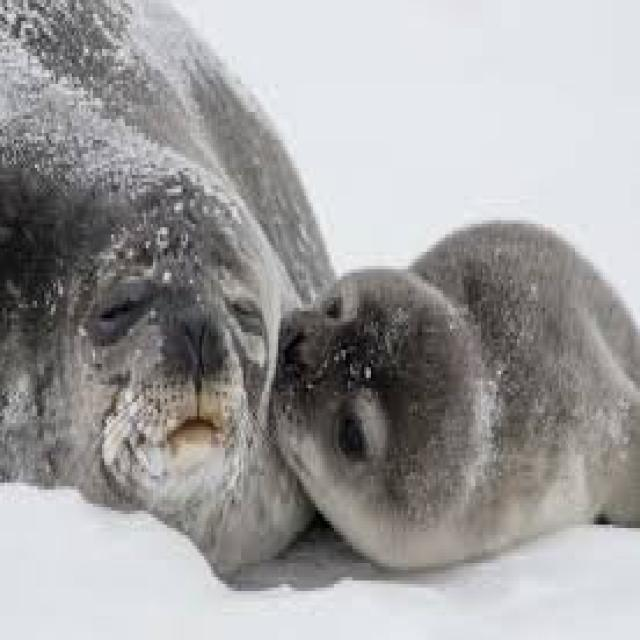seal: (269, 220, 638, 563)
